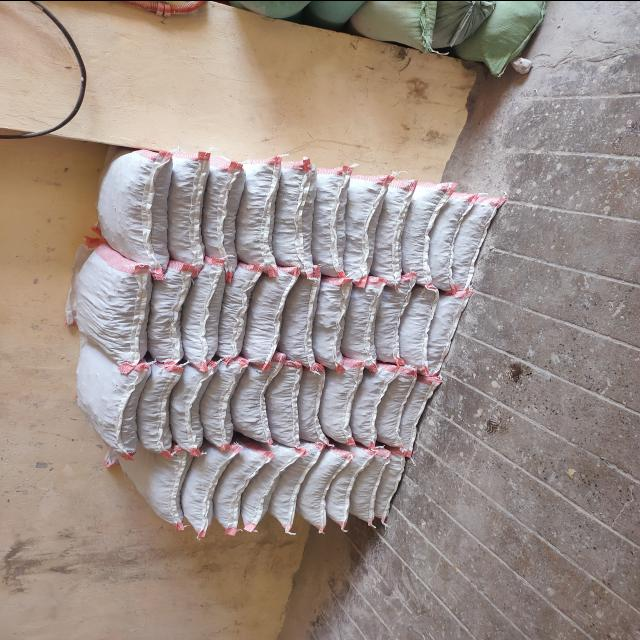Gravel: (77, 263, 137, 356), (99, 165, 159, 258), (162, 160, 210, 269), (77, 347, 123, 454), (143, 264, 187, 358), (171, 268, 215, 362), (212, 274, 256, 368), (202, 165, 242, 266), (236, 166, 276, 267), (274, 168, 314, 269), (307, 167, 347, 268), (334, 176, 374, 277), (372, 178, 412, 279), (398, 176, 438, 277), (135, 364, 173, 448), (170, 365, 208, 449), (199, 360, 237, 444), (230, 359, 268, 443), (265, 367, 303, 451), (429, 188, 461, 286), (247, 279, 280, 371), (281, 277, 314, 369), (315, 274, 348, 366), (343, 272, 376, 364), (369, 277, 402, 369), (398, 284, 431, 376), (291, 366, 325, 450), (318, 360, 352, 444), (345, 365, 379, 449), (367, 372, 401, 456), (394, 371, 428, 455), (140, 444, 174, 520), (185, 452, 219, 528), (214, 452, 248, 528), (246, 450, 280, 526), (268, 449, 302, 525), (297, 449, 331, 525), (319, 452, 353, 528), (346, 454, 380, 530), (457, 200, 485, 281), (427, 296, 458, 358), (372, 448, 396, 526)
